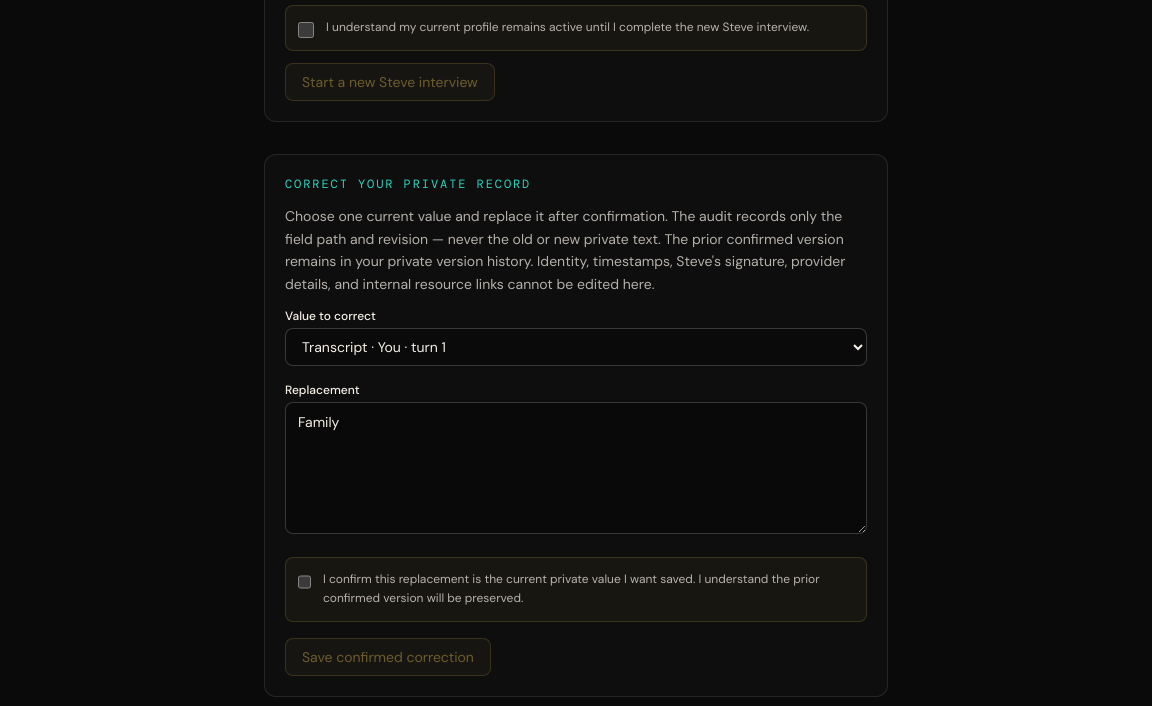
Test case: Steve Success Profile privacy controls › submits one confirmed exact correction and reloads the current artifact
(page scrolled)
Expected: the heading "Correct Your Private Record" is shown, [285,176,531,192]
Select "Success Profile · Primary why" in the dropdown with test id "steve-correction-target". click: (576,347)
box: [285,328,867,366]
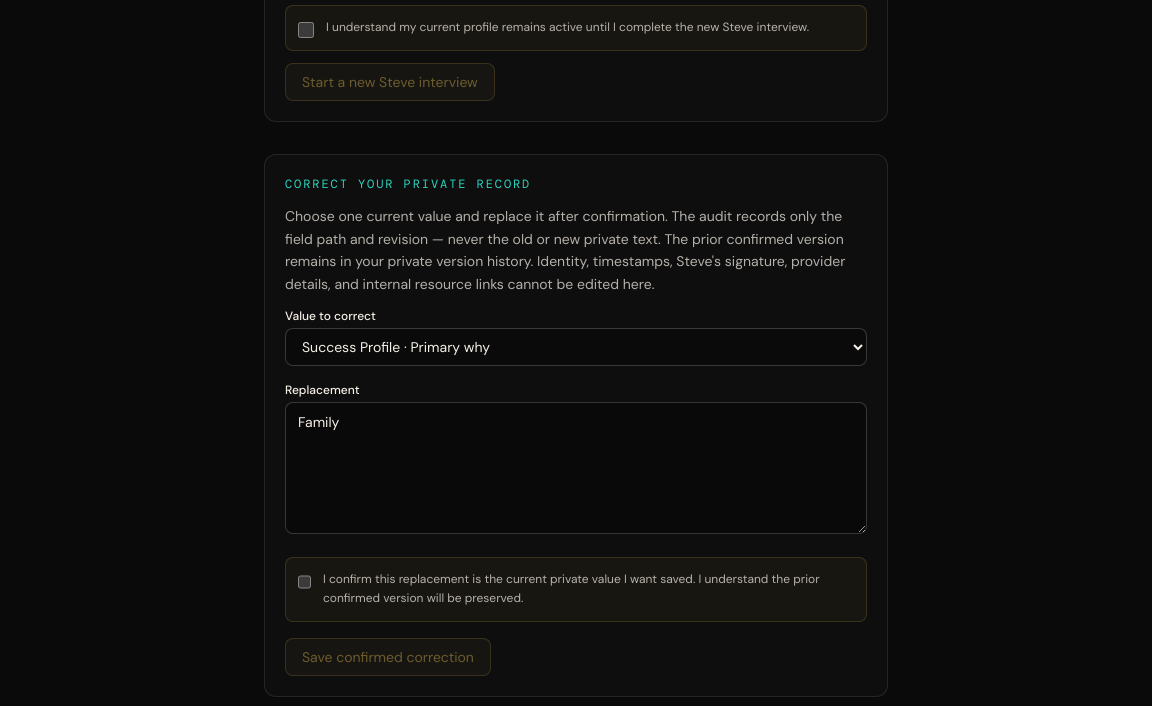
Replace the text in the text box with test id "steve-correction-replacement" with "Family and freedom". click: (576,468)
box: [285,402,867,534]
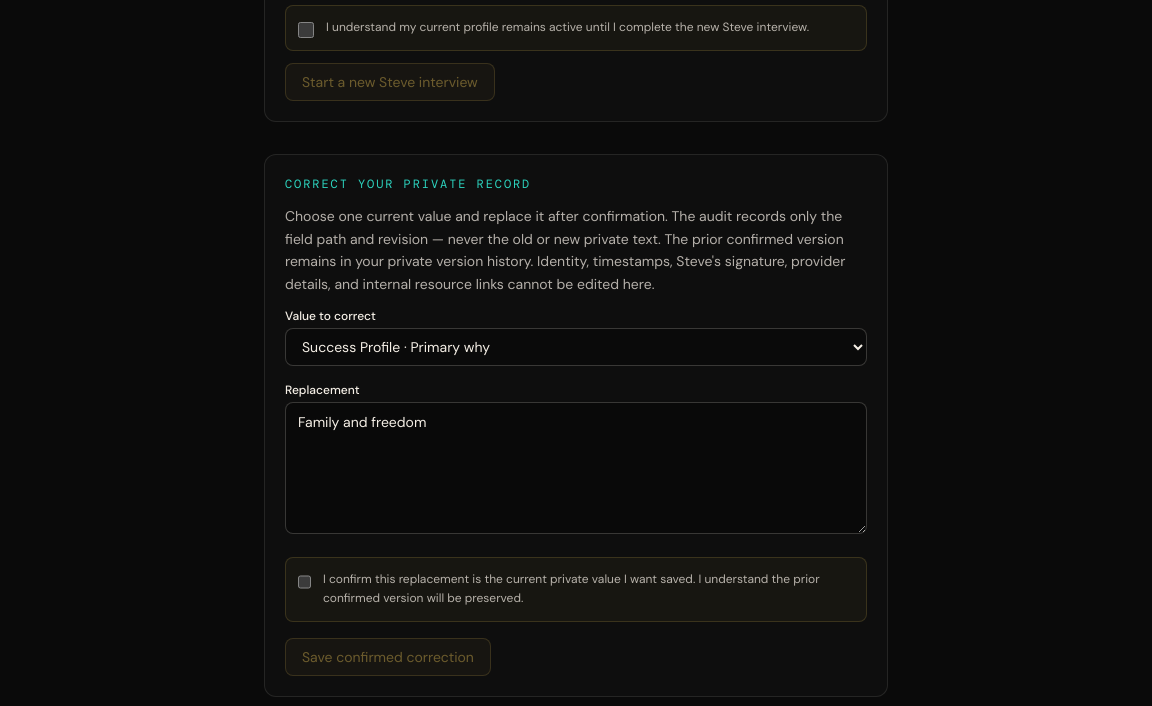
Click the checkbox labelled "I confirm this replacement is the current private value". click: (304,582)
box: [298,574,311,590]
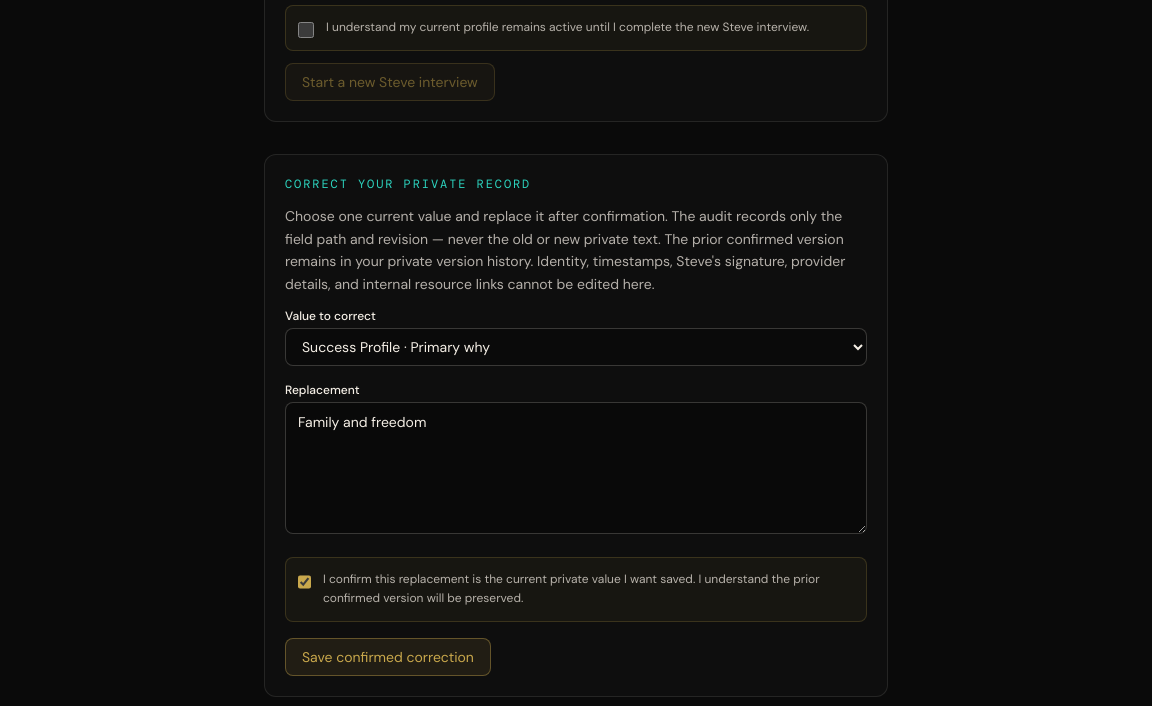
Click the button "Save confirmed correction". click: (388,656)
box: [285,638,491,676]
(page scrolled)
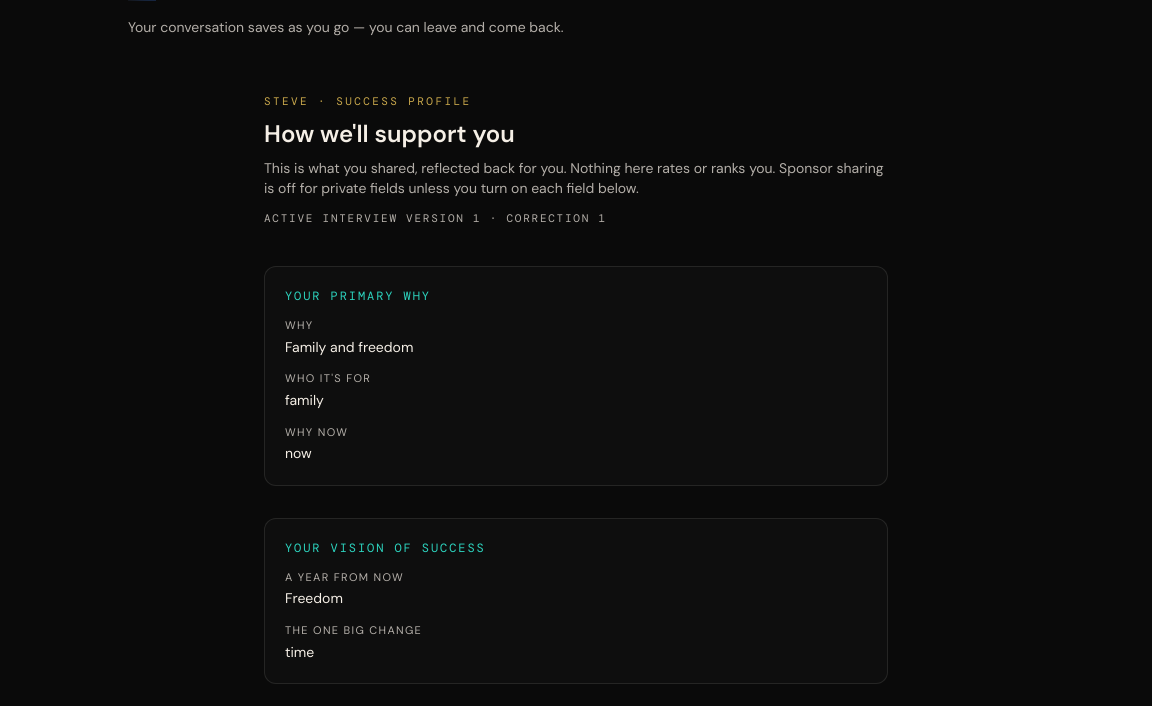
Expected: the text "Family and freedom" is shown, [285,338,413,356]
